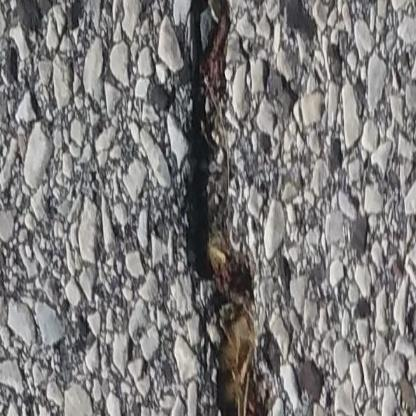Cracks: (184, 0, 276, 416)
